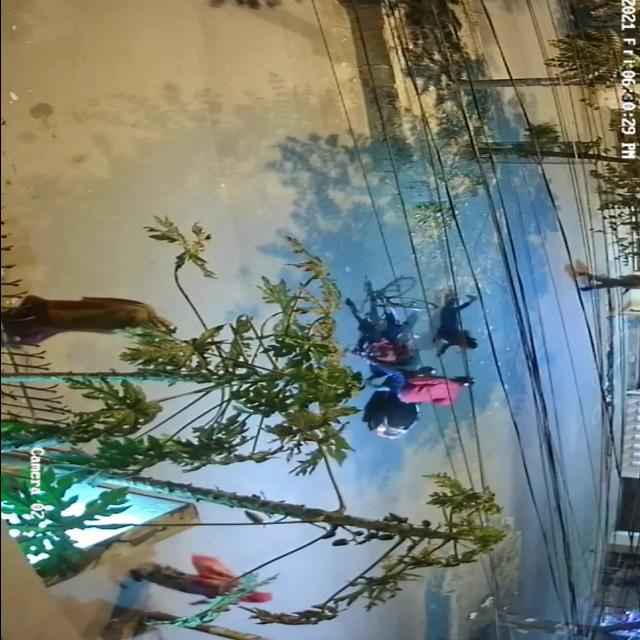accident: (353, 284, 503, 440)
